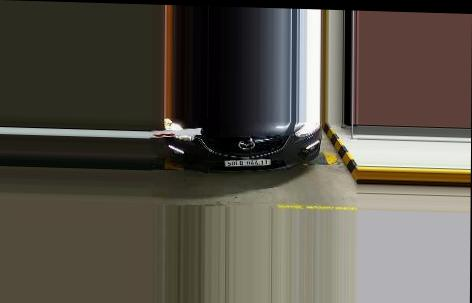License_Plate: (225, 156, 275, 169)
